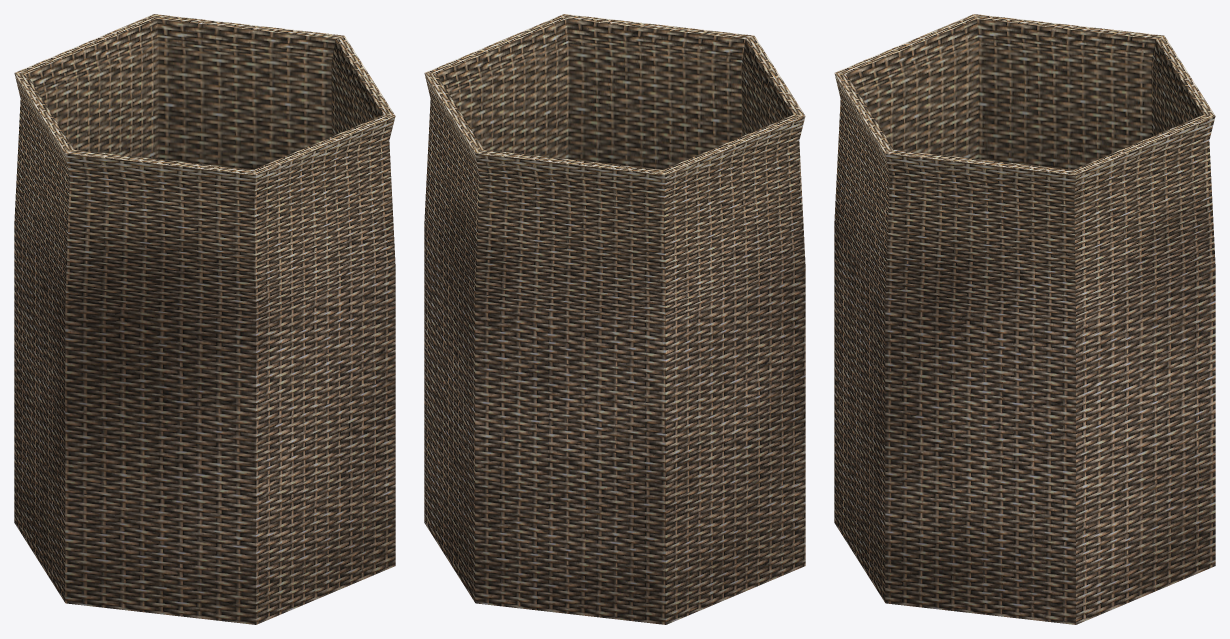
File: basket_LOD2.FBX
3 renders of one model, left to right at view 1: azimuth 30°, elevation 25°; view 2: azimuth 150°, elevation 25°; view 3: azimuth 270°, elevation 25°, orthographic.
Parts seen in each view (by area): view 1: basket_LOD2; view 2: basket_LOD2; view 3: basket_LOD2.
Part boxes in pixels (bbox=[...]): basket_LOD2: bbox=[14, 14, 395, 624]; basket_LOD2: bbox=[424, 14, 805, 624]; basket_LOD2: bbox=[834, 14, 1215, 624].
Size of the model in its own units: 53.01 by 69.04 by 53.01.
